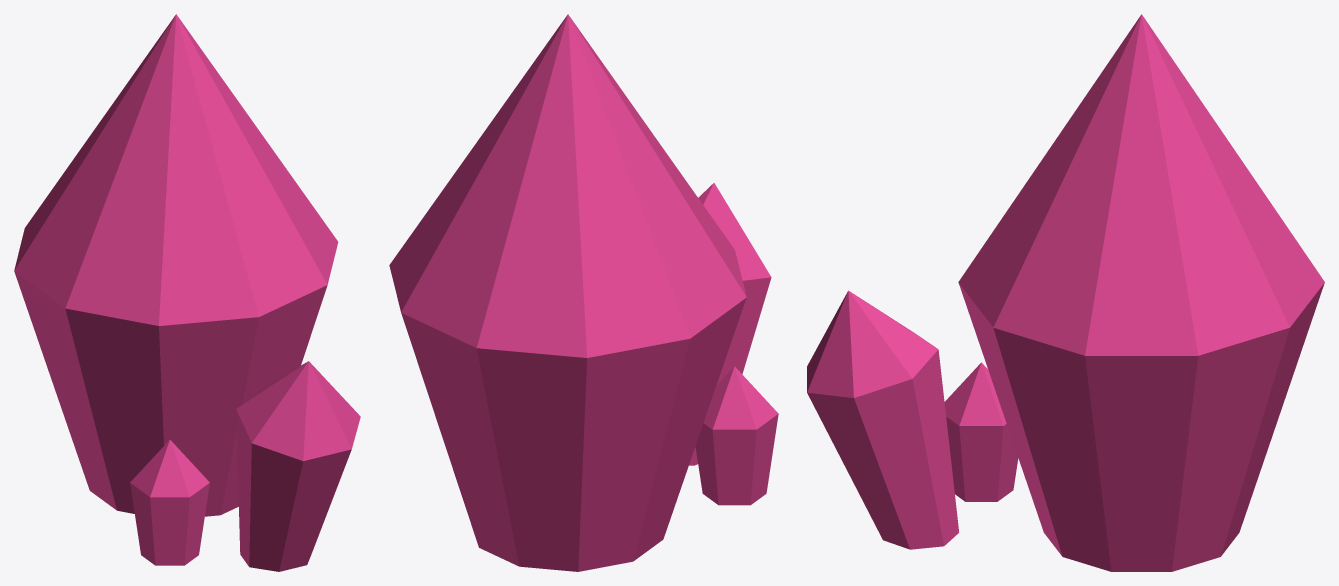
The model's file is Resource_Crystal_Large.fbx.
3 renders of one model, left to right at view 1: azimuth 30°, elevation 25°; view 2: azimuth 150°, elevation 25°; view 3: azimuth 270°, elevation 25°, orthographic. The views are drawn at different scales.
Parts seen in each view (by area): view 1: Crystal Large; view 2: Crystal Large; view 3: Crystal Large.
Part boxes in pixels (box(x1,y1,x2,y2)): Crystal Large: box(14, 14, 360, 571); Crystal Large: box(389, 14, 778, 571); Crystal Large: box(807, 14, 1324, 571).
Size of the model in its own units: 107 by 175 by 158.
